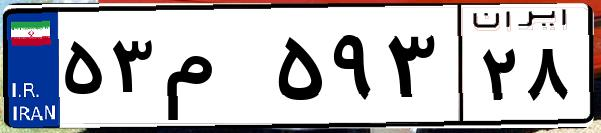2: (475, 38, 525, 113)
3: (385, 28, 445, 110), (110, 28, 158, 98)
5: (270, 28, 330, 110), (57, 26, 110, 100)
8: (525, 38, 570, 115)
9: (330, 28, 385, 110)
م: (158, 20, 270, 120)
